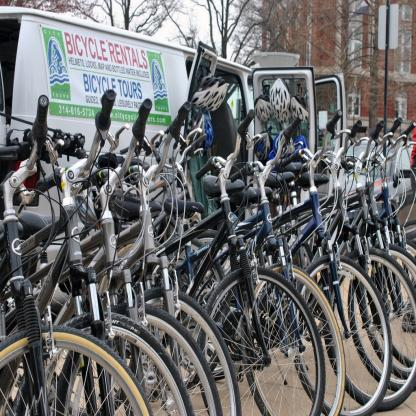Helmet: (192, 74, 219, 110), (269, 75, 292, 115), (75, 190, 97, 230), (186, 114, 203, 156), (252, 94, 272, 125), (266, 134, 291, 158), (256, 132, 274, 161), (203, 114, 216, 153), (290, 96, 308, 122), (291, 135, 308, 155)
